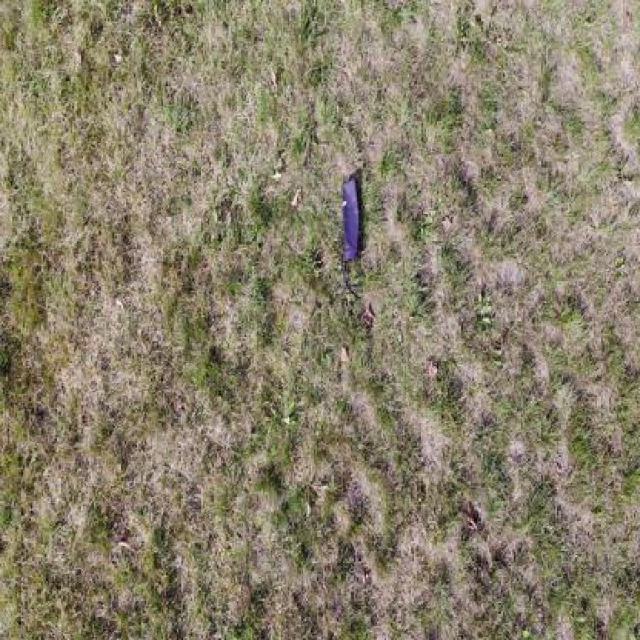Garbage: (341, 177, 362, 297)
